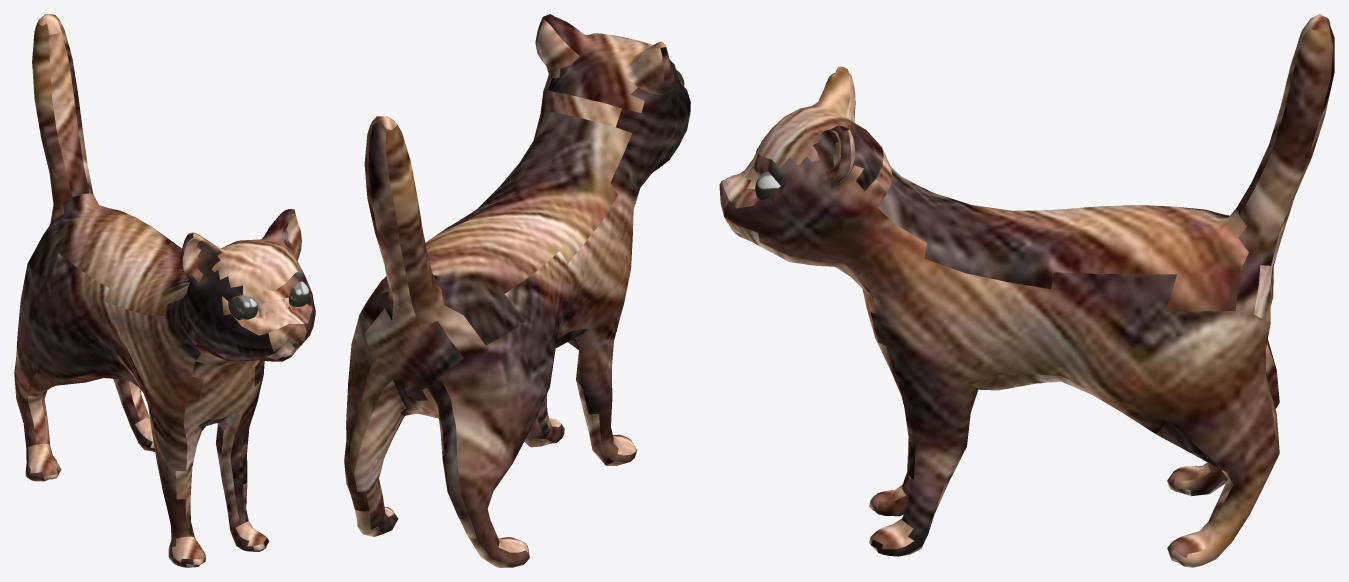
File: kat_2.fbx
The picture shows the model from 3 angles, left to right: view 1: azimuth 30°, elevation 25°; view 2: azimuth 150°, elevation 25°; view 3: azimuth 270°, elevation 25°; orthographic projection. The views are drawn at different scales.
Visible parts, largest first — view 1: cat; view 2: cat; view 3: cat.
Part boxes in pixels (box(x1,y1,x2,y2)): cat: box(14, 14, 315, 567); cat: box(344, 14, 690, 567); cat: box(719, 14, 1334, 567).
Size of the model in its own units: 0.2693 by 0.7316 by 0.7894.
1 material, 1 textured.
